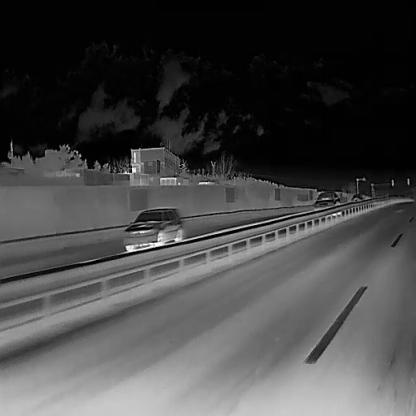car: (121, 206, 183, 253), (311, 191, 342, 216), (349, 192, 363, 204)
